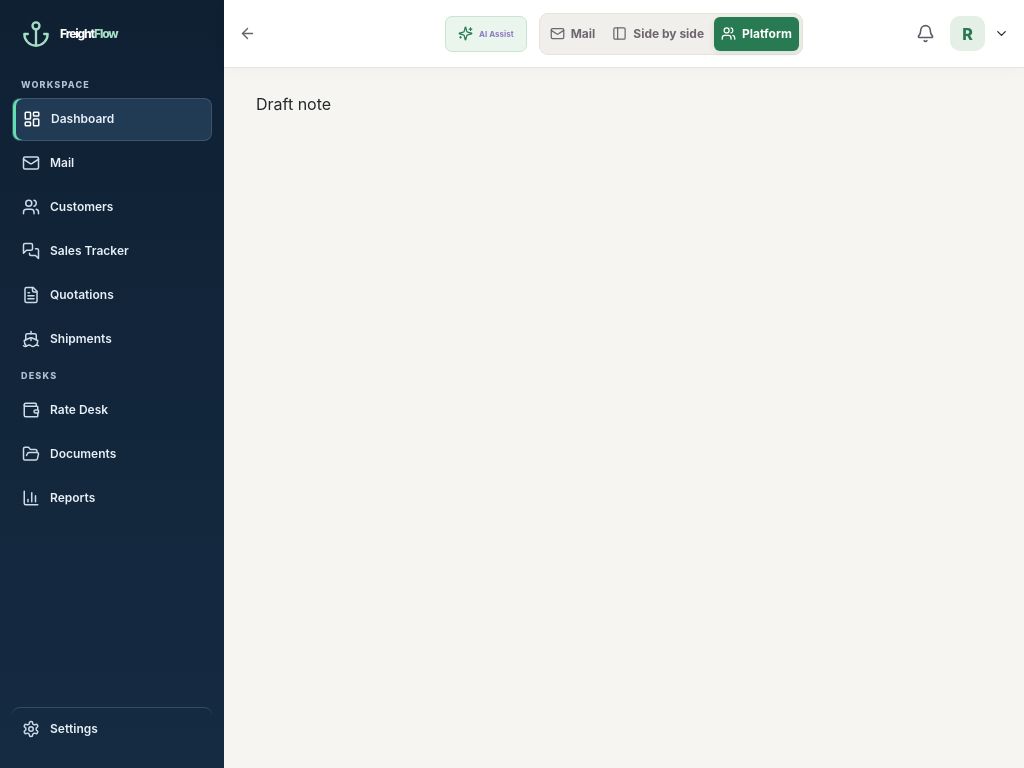
Test case: shared workspace shell › uses the same sidebar while navigating between routes
This screenshot has width=1024, height=768.
Expected: the field labelled "Draft note" is shown, [331,92,579,116]
Click the link "Sales Tracker": (75, 251) [22,242,129,260]
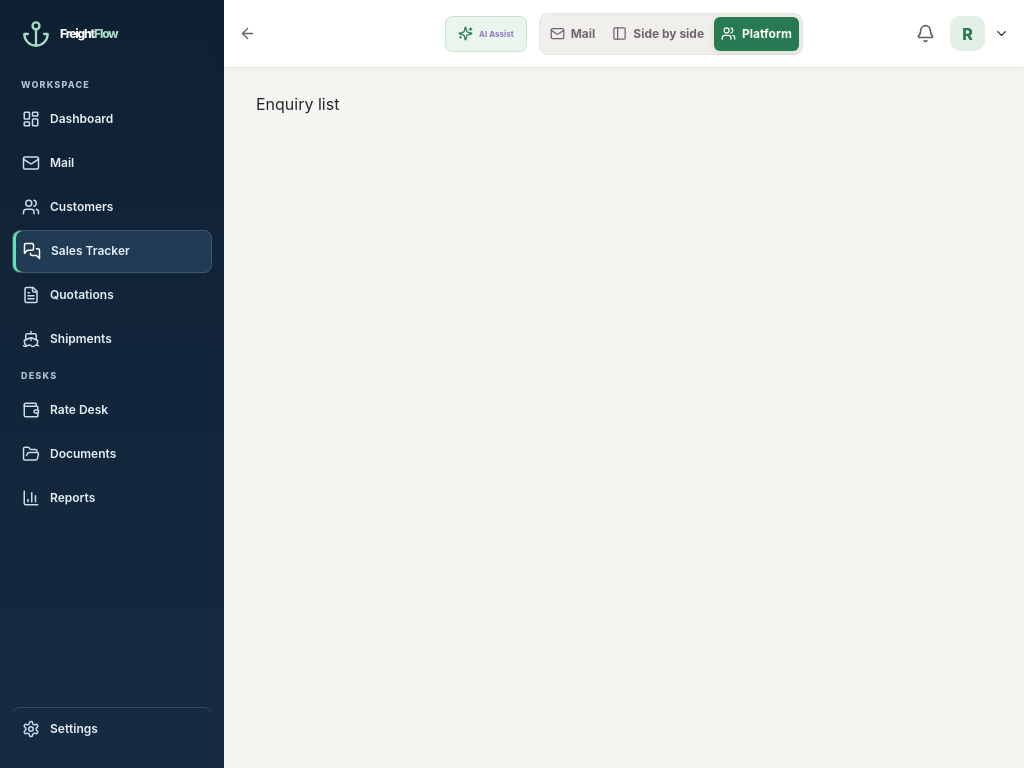
Expected: the heading "Enquiry list" is shown, [256,94,339,114]
Click the link "Quotations": (68, 295) [22,286,114,304]
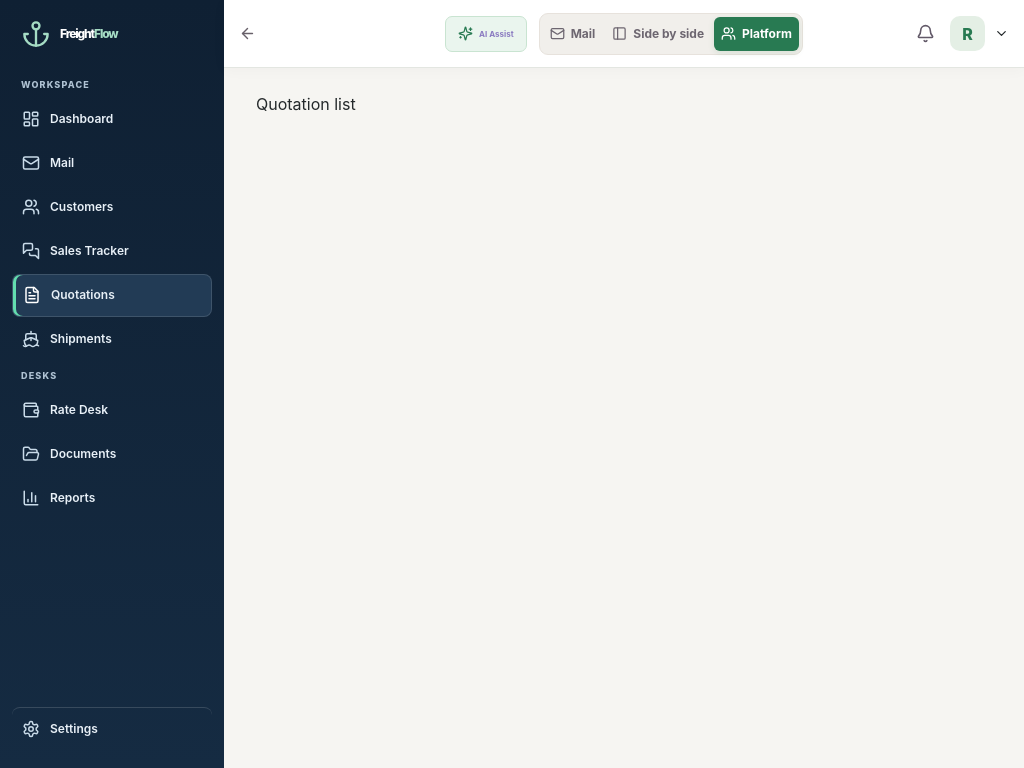
Expected: the heading "Quotation list" is shown, [256,94,356,114]
Click the button named "Go back": (248, 34) [239,25,256,42]
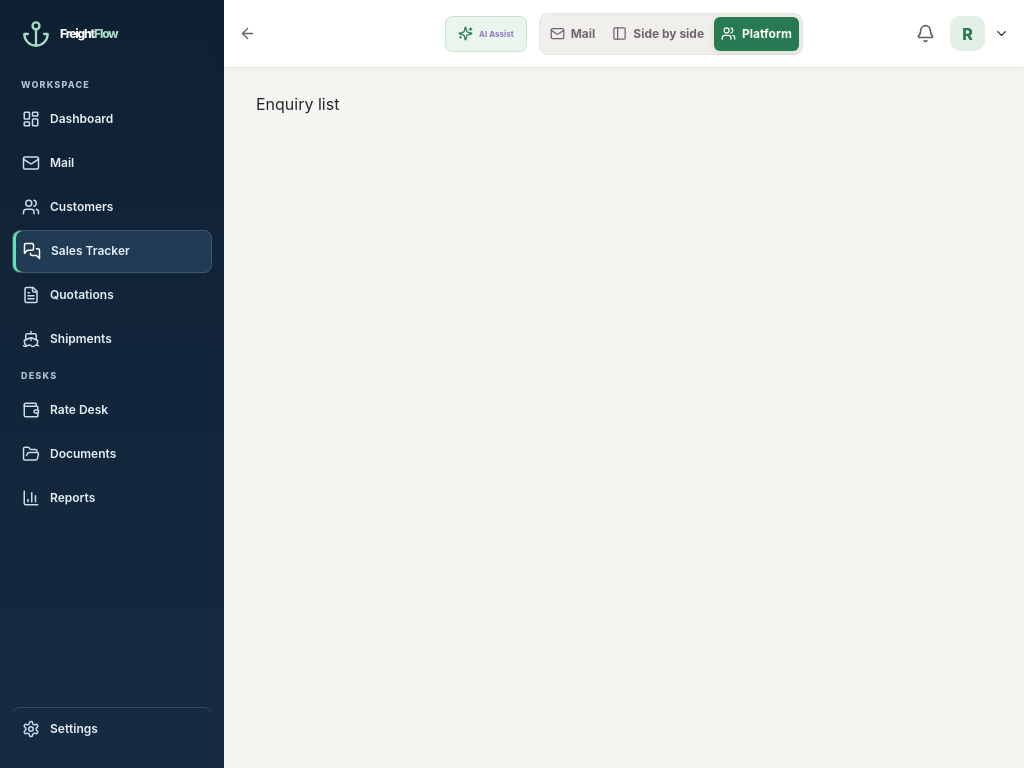
Expected: the heading "Enquiry list" is shown, [256,94,339,114]
